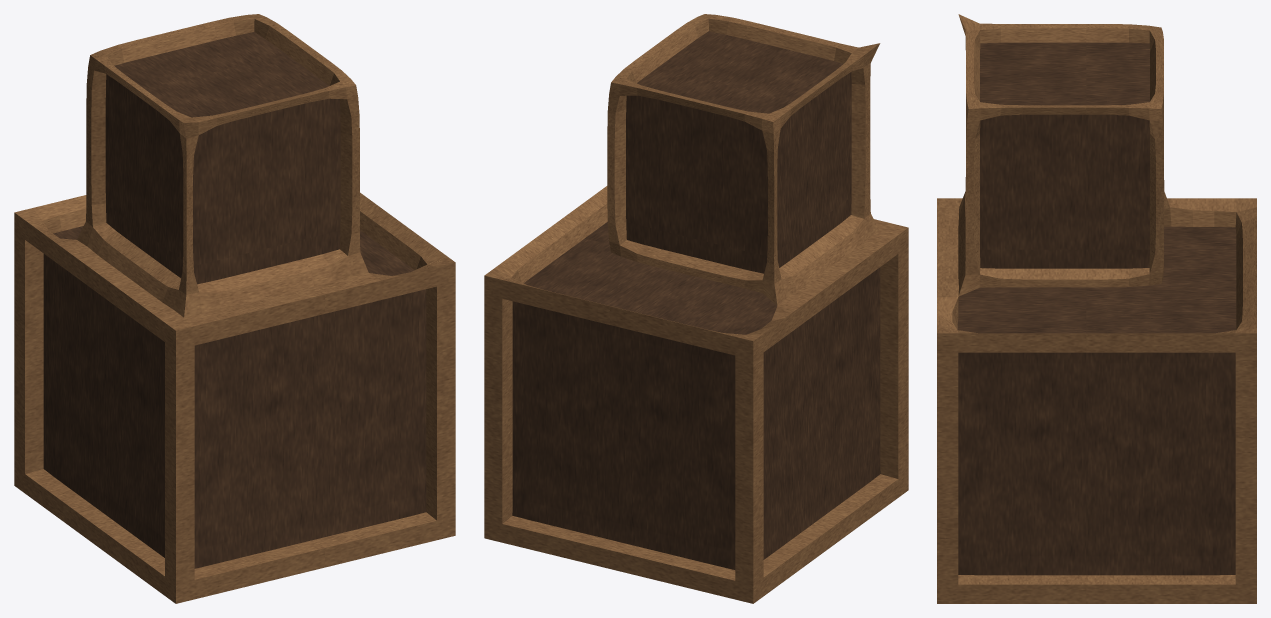
Rendered from prop_crate_stack.glb.
3 views of the same model, side by side, from view 1: azimuth 30°, elevation 25°; view 2: azimuth 150°, elevation 25°; view 3: azimuth 270°, elevation 25° (orthographic). The views are drawn at different scales.
Visible parts, largest first — view 1: wilds_prop_crate_stack; view 2: wilds_prop_crate_stack; view 3: wilds_prop_crate_stack.
Part boxes in pixels (bbox=[...]): wilds_prop_crate_stack: bbox=[14, 14, 455, 603]; wilds_prop_crate_stack: bbox=[484, 14, 908, 603]; wilds_prop_crate_stack: bbox=[937, 14, 1256, 603].
Bounding box in the file's own units: 0.9375 × 1.5 × 0.9375.
1 material, 1 textured.
